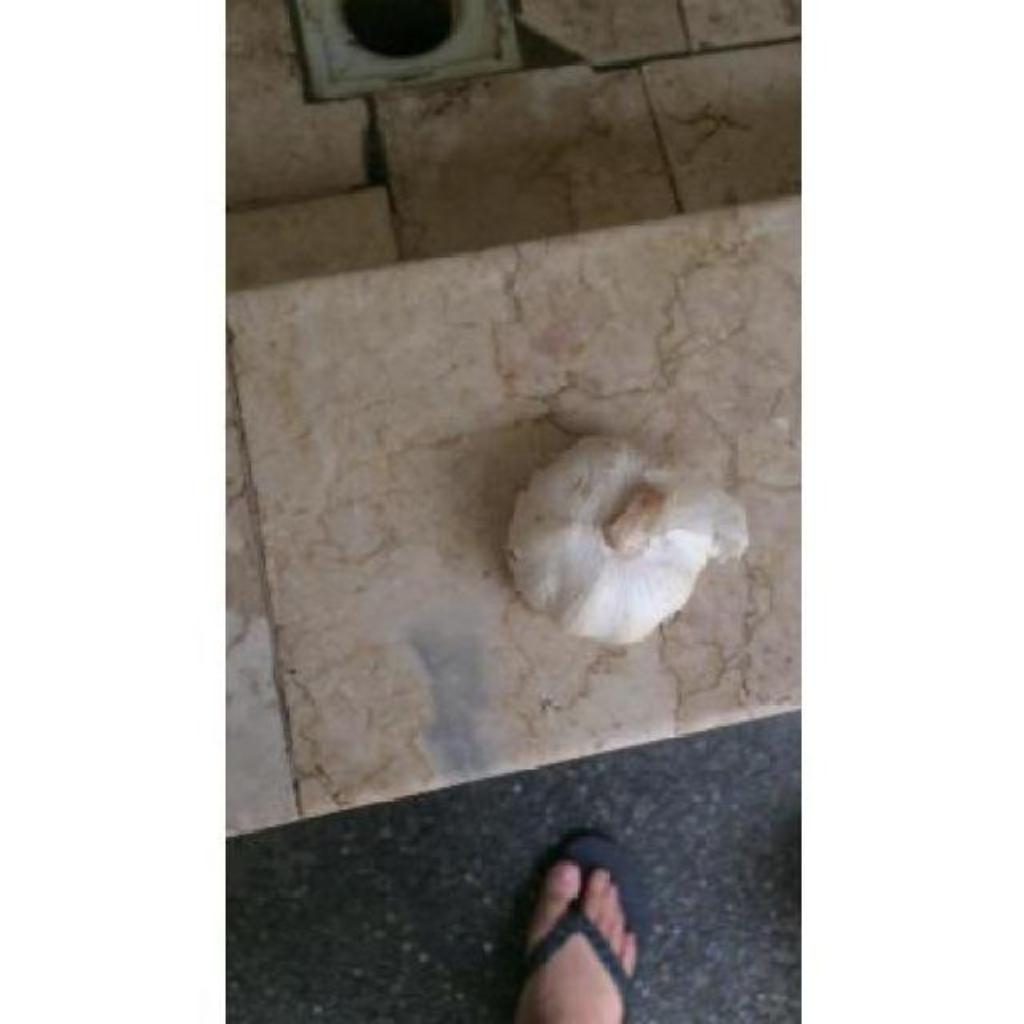garlic: (508, 436, 746, 643)
